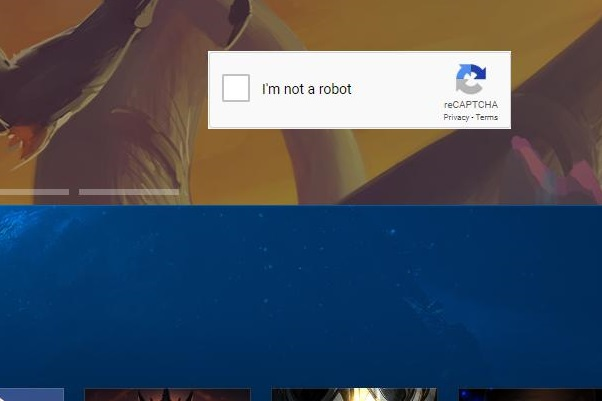captcha: (222, 74, 353, 101)
